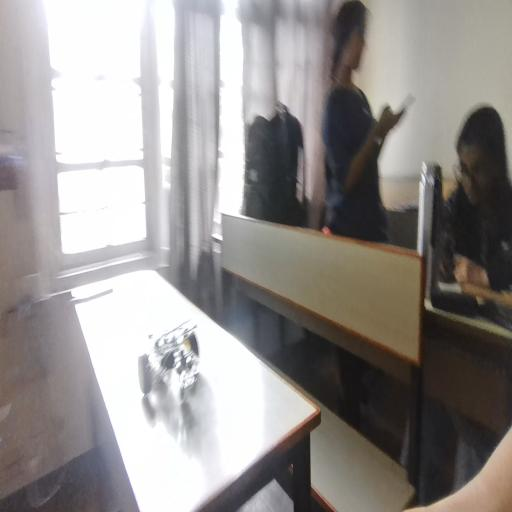car: (141, 324, 195, 399)
